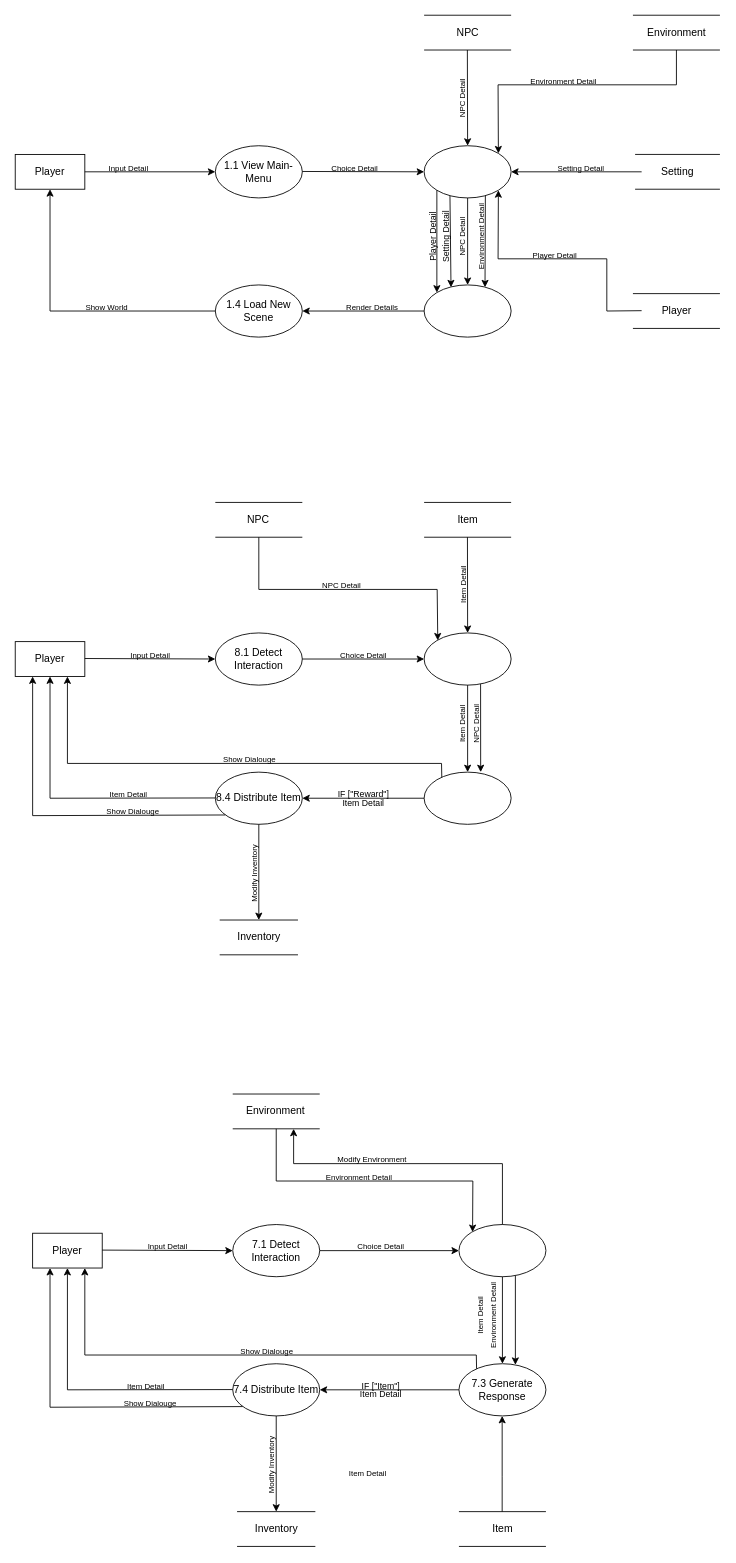
This 736x1563 diagram has some shape labels left out. Here are the shapes that lost their labels. From the top down, the centre of each, then its label:
pixel 467 171: 1.2 Load World
pixel 467 310: 1.3 Initialize World
pixel 467 658: 8.2 Fetch NPC Data
pixel 467 797: 8.3 Generate Response
pixel 502 1250: 7.2 Fetch Environment Data
